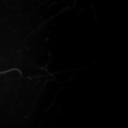fish: (0, 67, 23, 78)
